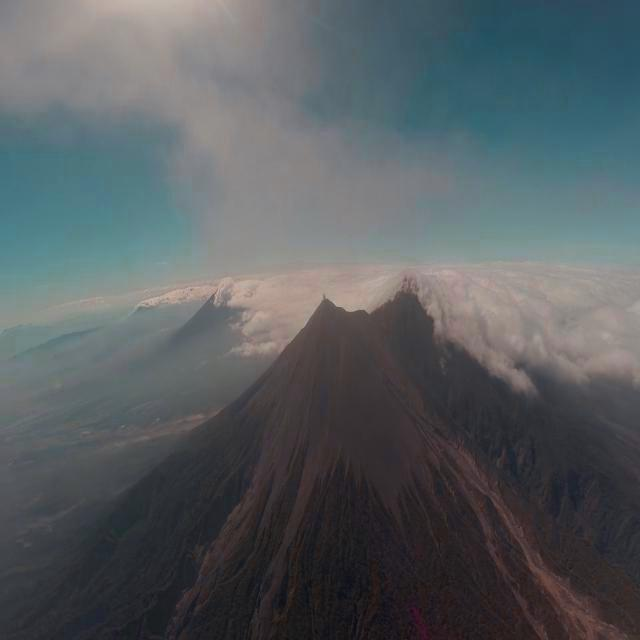Summit: (314, 298, 348, 320)
